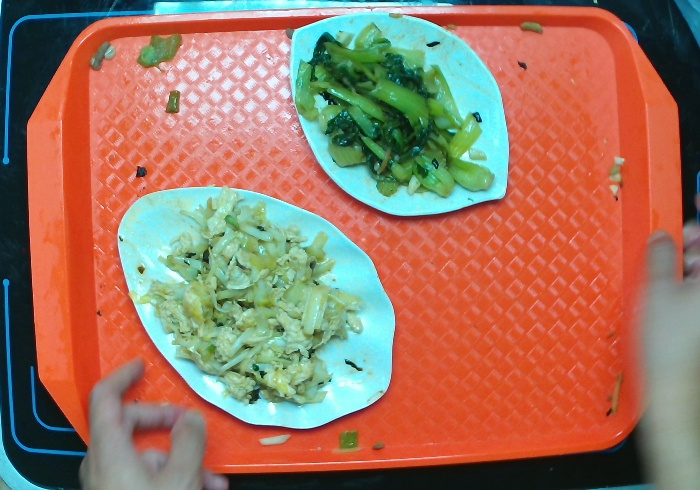RJxy-Bai_Ye_Pan: (111, 180, 397, 434)
RJxy-Da_Du_Pan: (283, 8, 513, 219)
